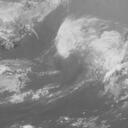cyclone: (38, 32, 94, 86)
